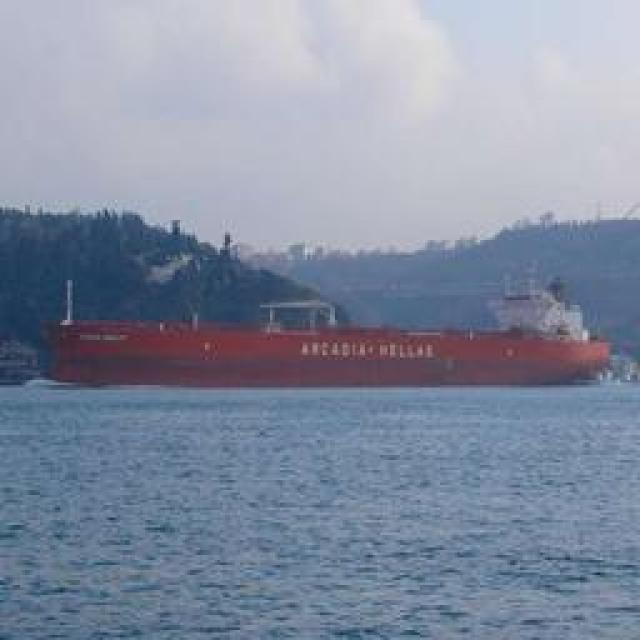CIV_Ship: (37, 312, 615, 388)
